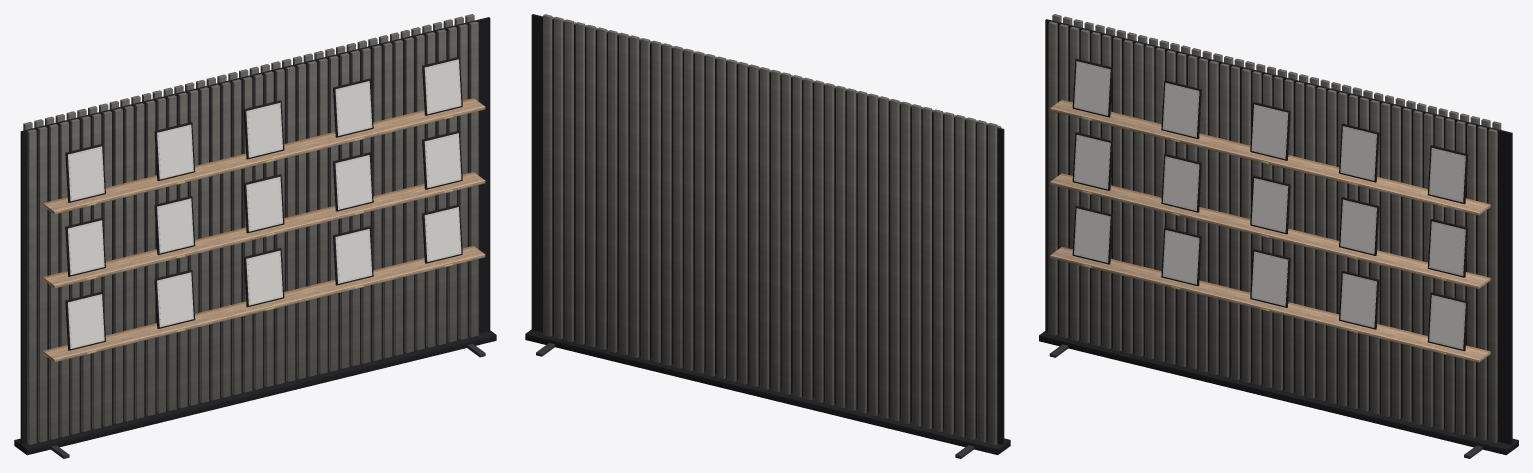
Rendered from parete-attestati.glb.
3 views of the same model, side by side, from view 1: azimuth 30°, elevation 25°; view 2: azimuth 150°, elevation 25°; view 3: azimuth 330°, elevation 25° (orthographic).
Parts seen in each view (by area): view 1: attestati_parete, foglio_07, foglio_08, foglio_10, foglio_00, foglio_02, foglio_04, foglio_12, foglio_09, foglio_03, foglio_05, foglio_11 (+19 smaller); view 2: attestati_parete; view 3: attestati_parete, foglio_01, foglio_00, foglio_02, foglio_05, foglio_07, foglio_10, foglio_12, foglio_06, foglio_11, foglio_14, foglio_08 (+19 smaller).
Boxes of the visible parts, left/top/right/bottom form: attestati_parete: left=14, top=14, right=496, bottom=458; foglio_07: left=248, top=178, right=281, bottom=229; foglio_08: left=337, top=157, right=370, bottom=207; foglio_10: left=69, top=148, right=103, bottom=199; foglio_00: left=69, top=296, right=103, bottom=347; foglio_02: left=248, top=252, right=281, bottom=303; foglio_04: left=426, top=209, right=459, bottom=259; foglio_12: left=248, top=105, right=281, bottom=155; foglio_09: left=426, top=135, right=459, bottom=186; foglio_03: left=337, top=231, right=370, bottom=281; foglio_05: left=69, top=222, right=103, bottom=273; foglio_11: left=158, top=126, right=192, bottom=177; attestati_parete: left=525, top=14, right=1010, bottom=458; attestati_parete: left=1039, top=14, right=1518, bottom=458; foglio_01: left=1164, top=232, right=1197, bottom=282; foglio_00: left=1075, top=210, right=1108, bottom=260; foglio_02: left=1253, top=253, right=1286, bottom=304; foglio_05: left=1075, top=136, right=1108, bottom=187; foglio_07: left=1253, top=180, right=1286, bottom=230; foglio_10: left=1075, top=63, right=1108, bottom=113; foglio_12: left=1253, top=106, right=1286, bottom=157; foglio_06: left=1164, top=158, right=1197, bottom=208; foglio_11: left=1164, top=85, right=1197, bottom=135; foglio_14: left=1430, top=150, right=1463, bottom=200; foglio_08: left=1341, top=201, right=1375, bottom=252.
Size of the model in its own units: 6.32 by 4.16 by 0.9.
Materials: 8 (2 with a texture image).
